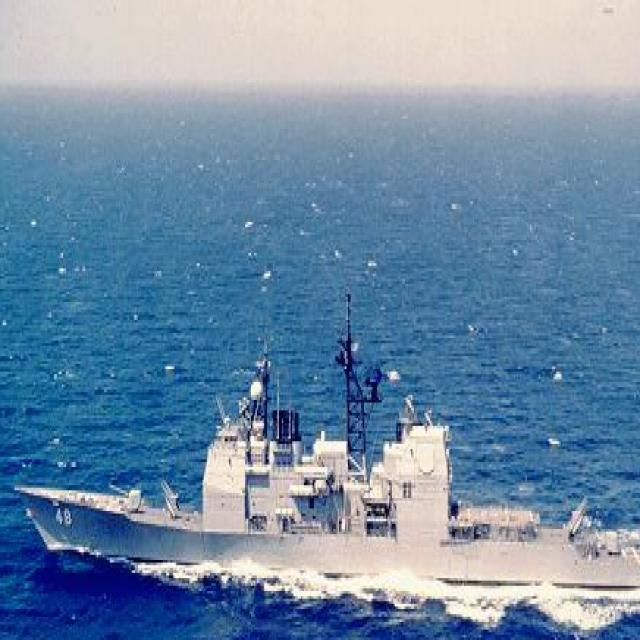navalvessels: (13, 338, 640, 640)
